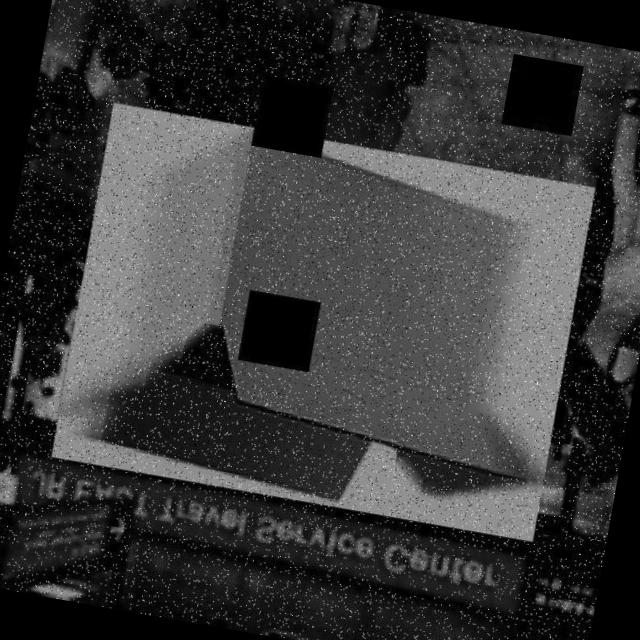box: (42, 95, 606, 548)
